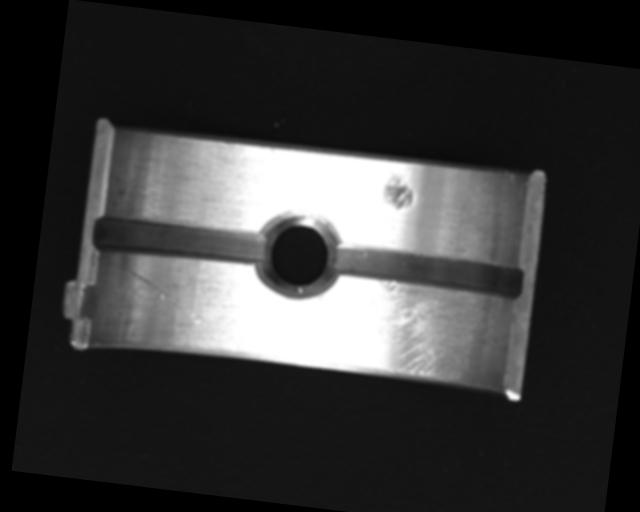bruise: (381, 169, 417, 212)
gap: (325, 240, 524, 302), (92, 211, 265, 268)
hole: (254, 208, 342, 305)
nick: (120, 266, 210, 327)
scratch: (324, 273, 505, 393)
